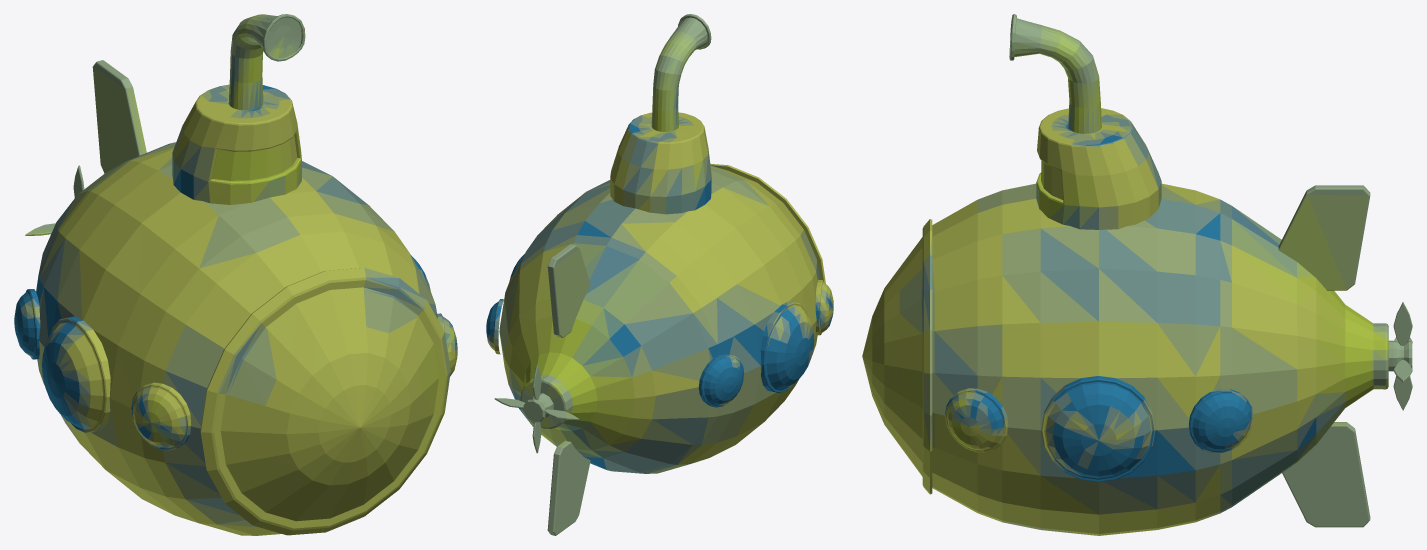
3 views of the same model, side by side, from view 1: azimuth 30°, elevation 25°; view 2: azimuth 150°, elevation 25°; view 3: azimuth 270°, elevation 25° (orthographic). The views are drawn at different scales.
Parts seen in each view (by area): view 1: world; view 2: world; view 3: world.
Part boxes in pixels (x1,y1,x2,y2): world: [14, 14, 457, 535]; world: [486, 14, 833, 535]; world: [862, 14, 1412, 535].
Size of the model in its own units: 0.7203 by 1 by 0.9759.
